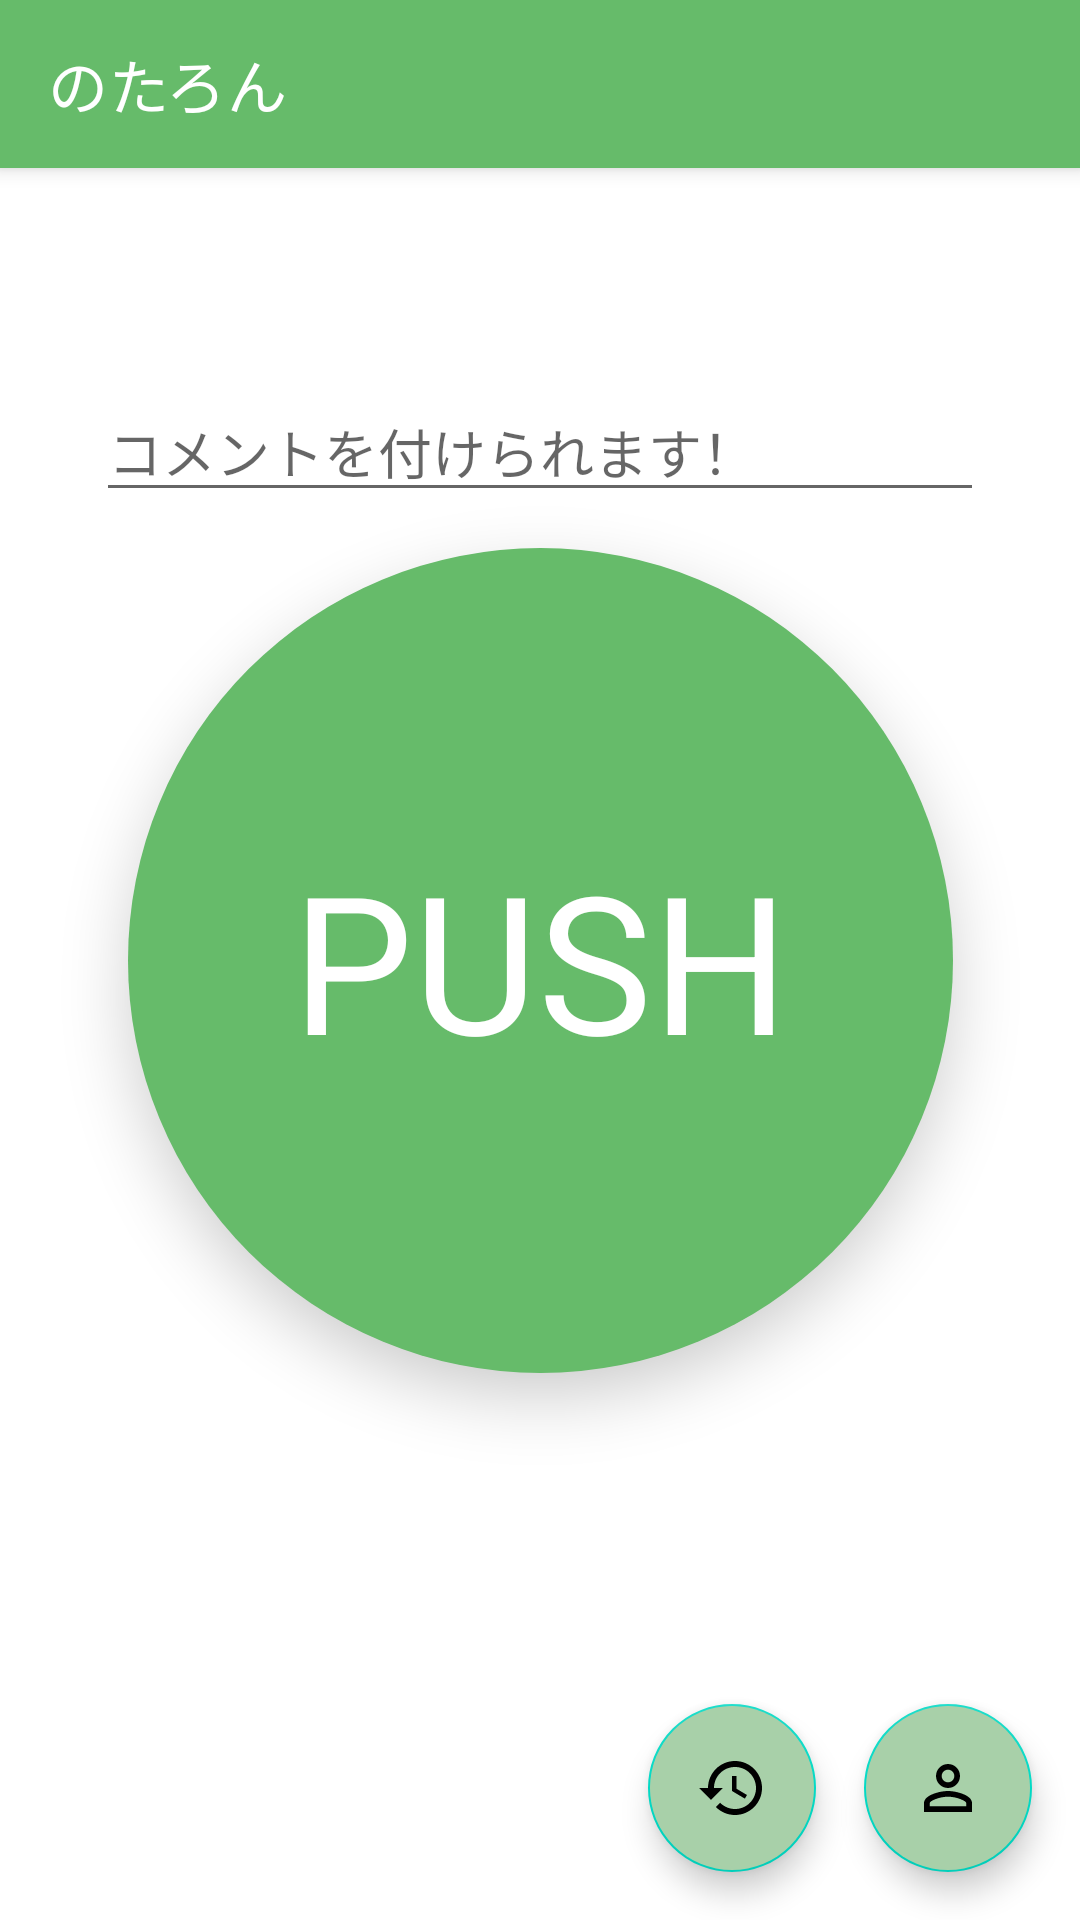

Icon bounding boxes for this 1080 × 1920 phone screenshot, format detection(x1, y1, x2, y2):
人型の画像: detection(864, 1704, 1032, 1872)
履歴の画像: detection(648, 1704, 816, 1872)
